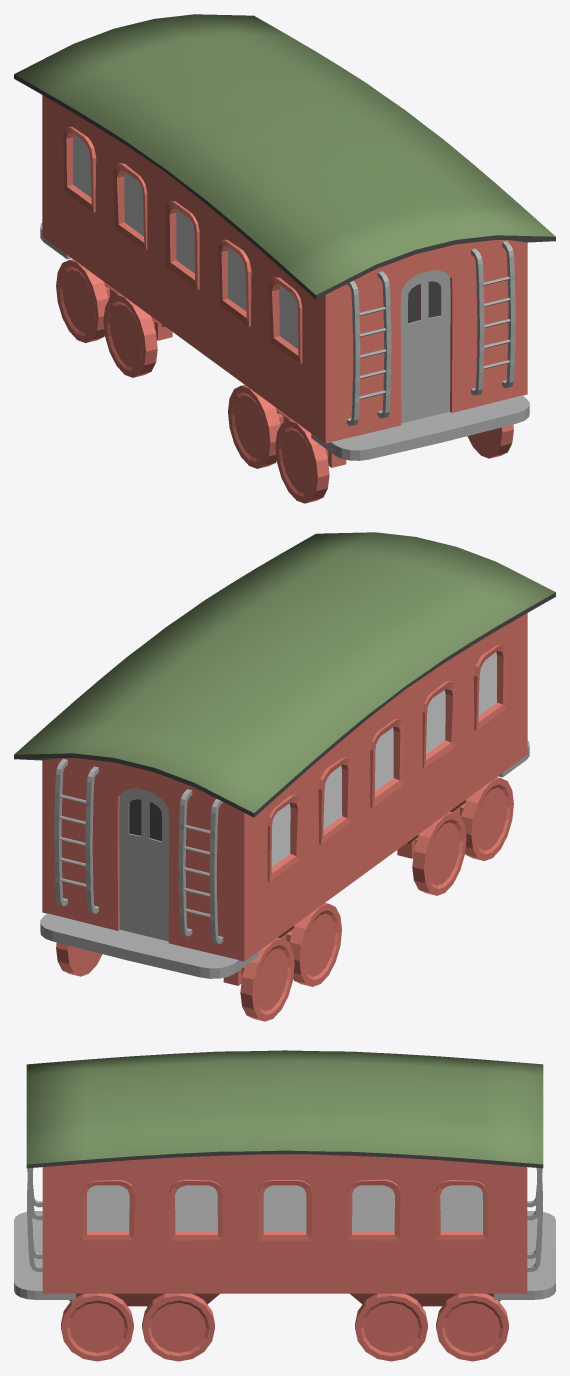
The model's file is TrainCarriageSmall 1.fbx.
3 views of the same model, one above another, from view 1: azimuth 30°, elevation 25°; view 2: azimuth 150°, elevation 25°; view 3: azimuth 270°, elevation 25° (orthographic). The views are drawn at different scales.
Visible parts, largest first — view 1: Cube, Cube.002; view 2: Cube, Cube.002; view 3: Cube, Cube.002.
Part boxes in pixels (x1,y1,x2,y2): Cube: [14, 14, 555, 503]; Cube.002: [73, 134, 298, 348]; Cube: [14, 532, 555, 1021]; Cube.002: [271, 652, 496, 866]; Cube: [14, 1050, 555, 1361]; Cube.002: [87, 1185, 482, 1232].
Bounding box in the file's own units: 475 × 526 × 1086.
